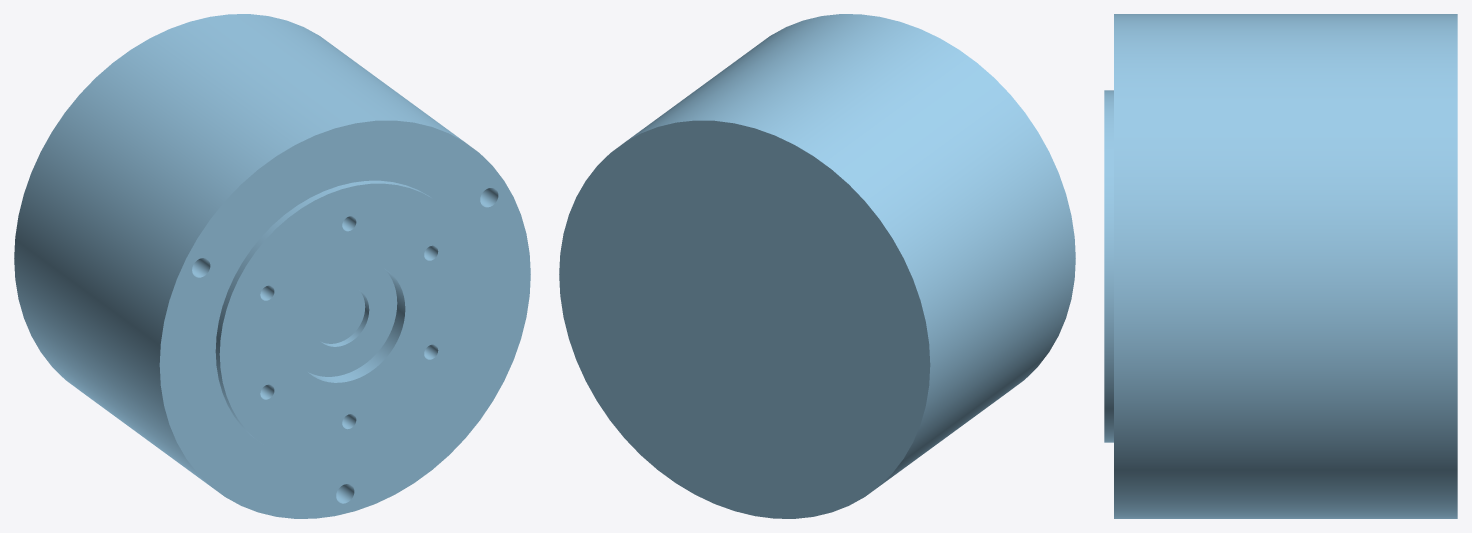
The picture shows the model from 3 angles, left to right: view 1: azimuth 30°, elevation 25°; view 2: azimuth 150°, elevation 25°; view 3: azimuth 270°, elevation 25°; orthographic projection. The views are drawn at different scales.
Visible parts, largest first — view 1: mesh4810, mesh4811, mesh4819, mesh4833, mesh4835, mesh4818, mesh4832; view 2: mesh4809, mesh4810; view 3: mesh4810, mesh4818.
Part boxes in pixels (x1,y1,x2,y2): mesh4810: (14, 14, 463, 489); mesh4811: (159, 120, 530, 518); mesh4819: (219, 183, 478, 461); mesh4833: (293, 262, 397, 376); mesh4835: (313, 286, 365, 343); mesh4818: (215, 180, 431, 438); mesh4832: (308, 268, 405, 382); mesh4809: (559, 120, 930, 518); mesh4810: (626, 14, 1075, 489); mesh4810: (1114, 14, 1457, 518); mesh4818: (1104, 90, 1113, 442).
Bounding box in the file's own units: 0.053 × 0.0529 × 0.037.
